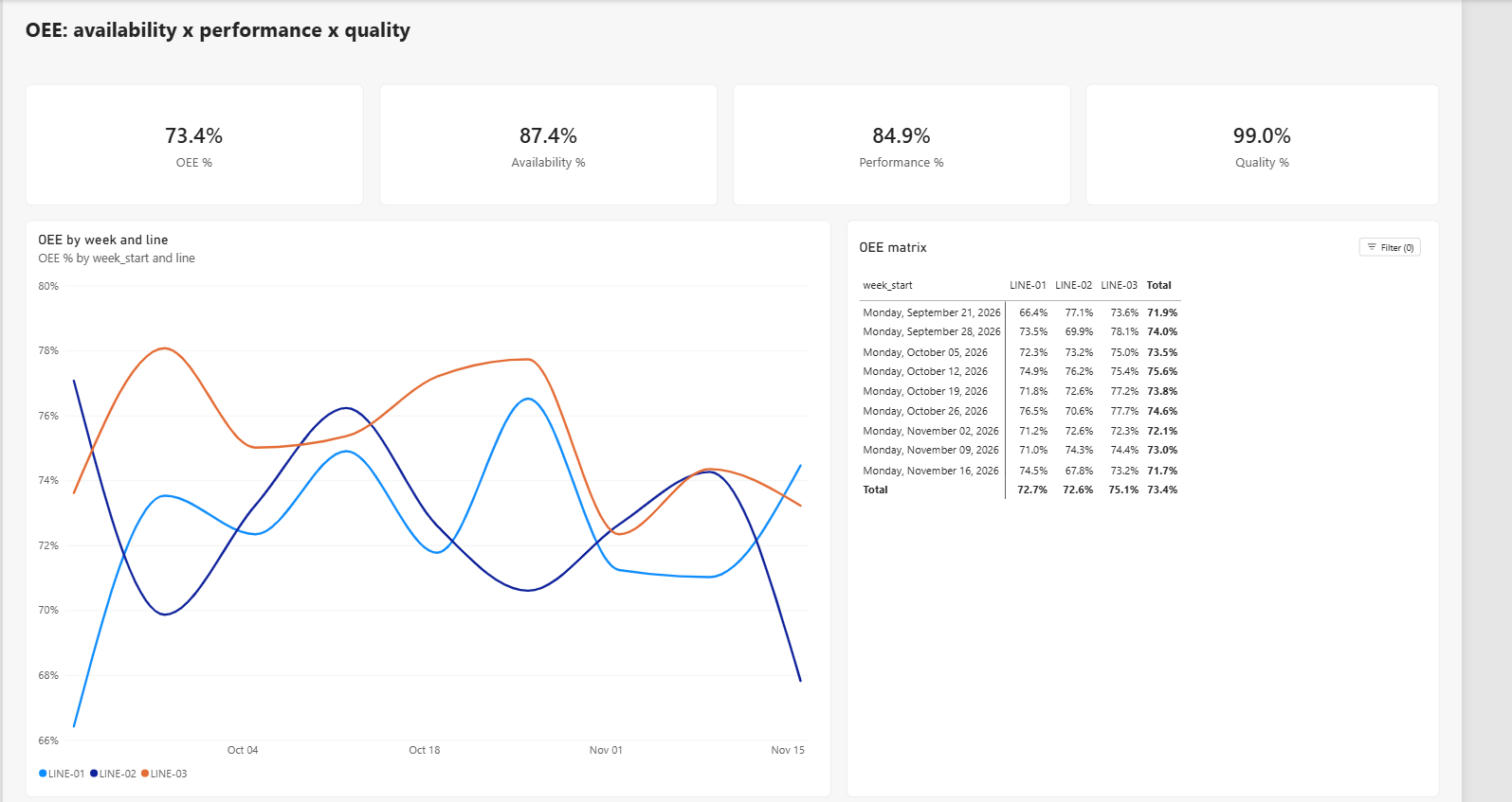

The dashboard page shown, as its layout file describes it:
{"tool":"powerbi","page":{"name":"OEE","canvas":[1920,1080],"ordinal":2},"visuals":[{"type":"textbox","box":[30,20,1400,70],"z":0},{"type":"card","fields":{"Values":["OEE.OEE %"]},"box":[30,110,445,160],"z":1},{"type":"card","fields":{"Values":["OEE.Availability %"]},"box":[495,110,445,160],"z":2},{"type":"card","fields":{"Values":["OEE.Performance %"]},"box":[960,110,445,160],"z":3},{"type":"card","fields":{"Values":["OEE.Quality %"]},"box":[1425,110,465,160],"z":4},{"type":"lineChart","title":"OEE by week and line","fields":{"Category":["OEE.week_start"],"Y":["OEE.OEE %"],"Series":["OEE.line"]},"box":[30,290,1060,760],"z":5},{"type":"pivotTable","title":"OEE matrix","fields":{"Columns":["OEE.line"],"Rows":["OEE.week_start"],"Values":["OEE.OEE %"]},"box":[1110,290,780,760],"z":6}]}

Visuals, with their boxes on the page's 1920x1080 design canvas (x1, y1, x2, y2). These are canvas units, not pixel positions in the 1512x802 screenshot, which may show the page scaled, cropped or inside an application window:
textbox: x1=30, y1=20, x2=1430, y2=90
card - OEE.OEE %: x1=30, y1=110, x2=475, y2=270
card - OEE.Availability %: x1=495, y1=110, x2=940, y2=270
card - OEE.Performance %: x1=960, y1=110, x2=1405, y2=270
card - OEE.Quality %: x1=1425, y1=110, x2=1890, y2=270
"OEE by week and line" lineChart: x1=30, y1=290, x2=1090, y2=1050
"OEE matrix" pivotTable: x1=1110, y1=290, x2=1890, y2=1050
